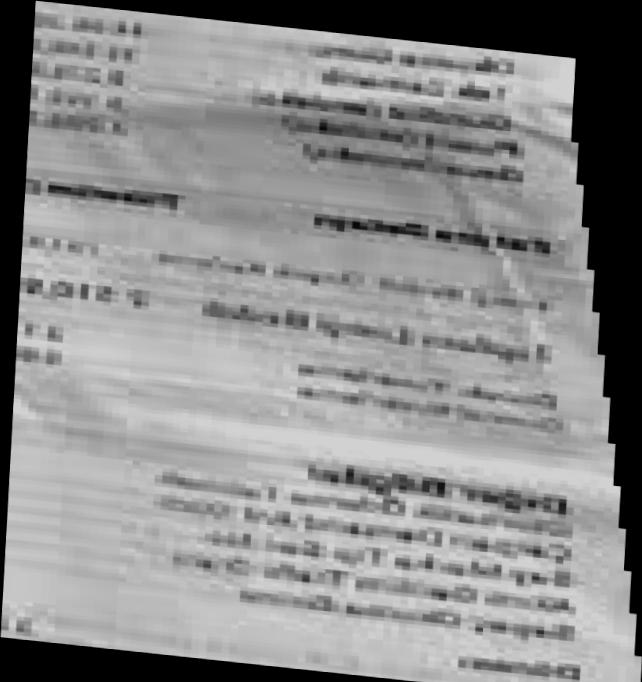electricity-bill: (0, 1, 641, 682)
